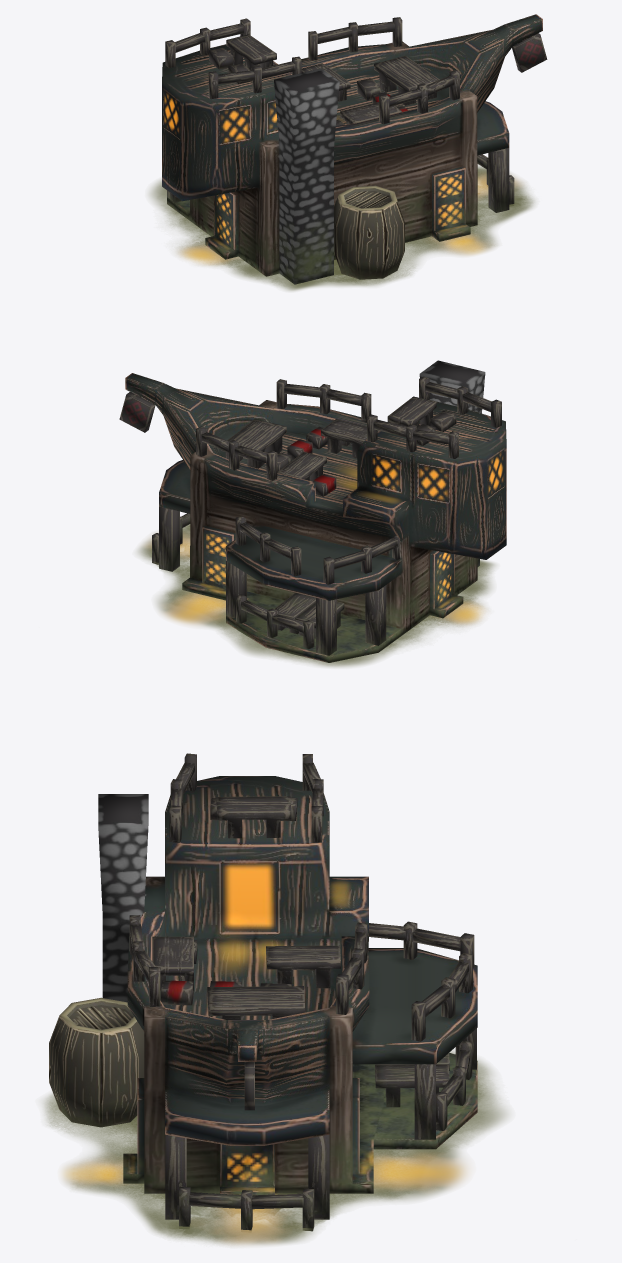
File: bldg-tavern.glb
3 renders of one model, top to bottom at view 1: azimuth 30°, elevation 25°; view 2: azimuth 150°, elevation 25°; view 3: azimuth 270°, elevation 25°, orthographic. The views are drawn at different scales.
Parts seen in each view (by area): view 1: base_lp, 2_lp, ground_lp; view 2: base_lp, 2_lp, ground_lp; view 3: base_lp, 2_lp, ground_lp.
Boxes of the visible parts, box(x1,y1,x2,y2) form: base_lp: box(162, 14, 542, 284); 2_lp: box(165, 17, 547, 279); ground_lp: box(149, 165, 534, 290); base_lp: box(125, 360, 506, 662); 2_lp: box(119, 376, 501, 655); ground_lp: box(137, 524, 495, 667); base_lp: box(98, 776, 477, 1195); 2_lp: box(49, 753, 476, 1231); ground_lp: box(43, 1050, 508, 1245).
Bounding box in the file's own units: 2 × 0.9632 × 1.88.
Materials: 3 (3 with a texture image).
